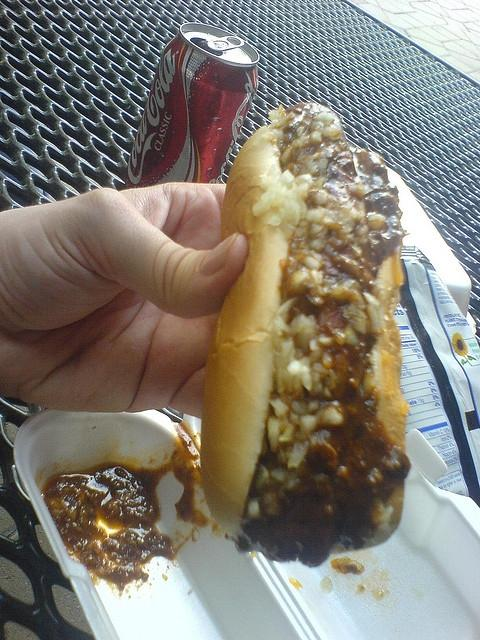onion: (291, 314, 315, 354), (286, 361, 312, 392), (260, 486, 282, 516), (314, 405, 346, 425), (286, 270, 310, 296), (288, 442, 308, 470), (252, 190, 272, 217), (366, 304, 381, 334), (268, 416, 280, 452), (270, 397, 290, 418), (298, 256, 324, 270), (348, 316, 368, 334), (300, 414, 316, 436), (306, 208, 326, 224), (278, 444, 292, 466), (368, 214, 386, 231), (345, 323, 358, 346), (247, 498, 260, 520), (296, 182, 311, 201), (290, 201, 301, 226), (312, 112, 335, 123), (282, 170, 294, 189), (324, 126, 340, 140), (277, 414, 289, 432), (295, 174, 313, 186), (274, 316, 286, 334), (309, 238, 324, 252), (284, 164, 301, 176), (325, 195, 338, 209), (281, 342, 293, 357), (290, 411, 302, 425), (278, 392, 288, 406), (302, 281, 314, 288), (271, 185, 282, 192)
